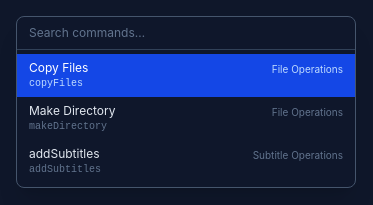
it: CommandPicker filtering › shows empty state when no commands match
Type "zzznomatch" into the field with placeholder "Search commands…".
click(186, 34); type("zzznomatch")  # box [17,17,355,50]
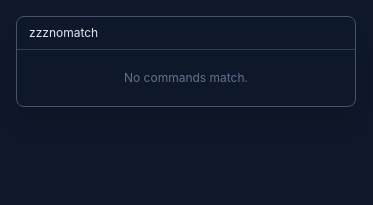
expect the text "No commands match." is shown: met, box [124,70,248,85]
